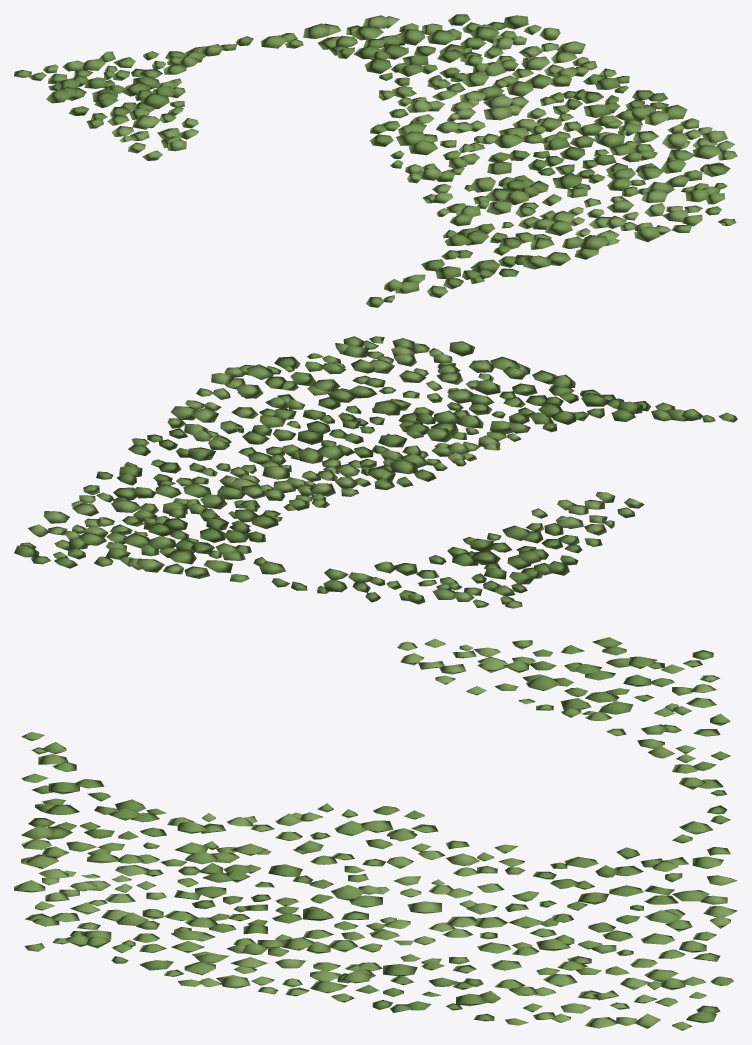
Rendered from canopy-1--2--4.glb.
The picture shows the model from 3 angles, top to bottom: view 1: azimuth 30°, elevation 25°; view 2: azimuth 150°, elevation 25°; view 3: azimuth 270°, elevation 25°; orthographic projection. The views are drawn at different scales.
Bounding box in the file's own units: 520 × 85 × 520.
Materials: 1 (1 with a texture image).
